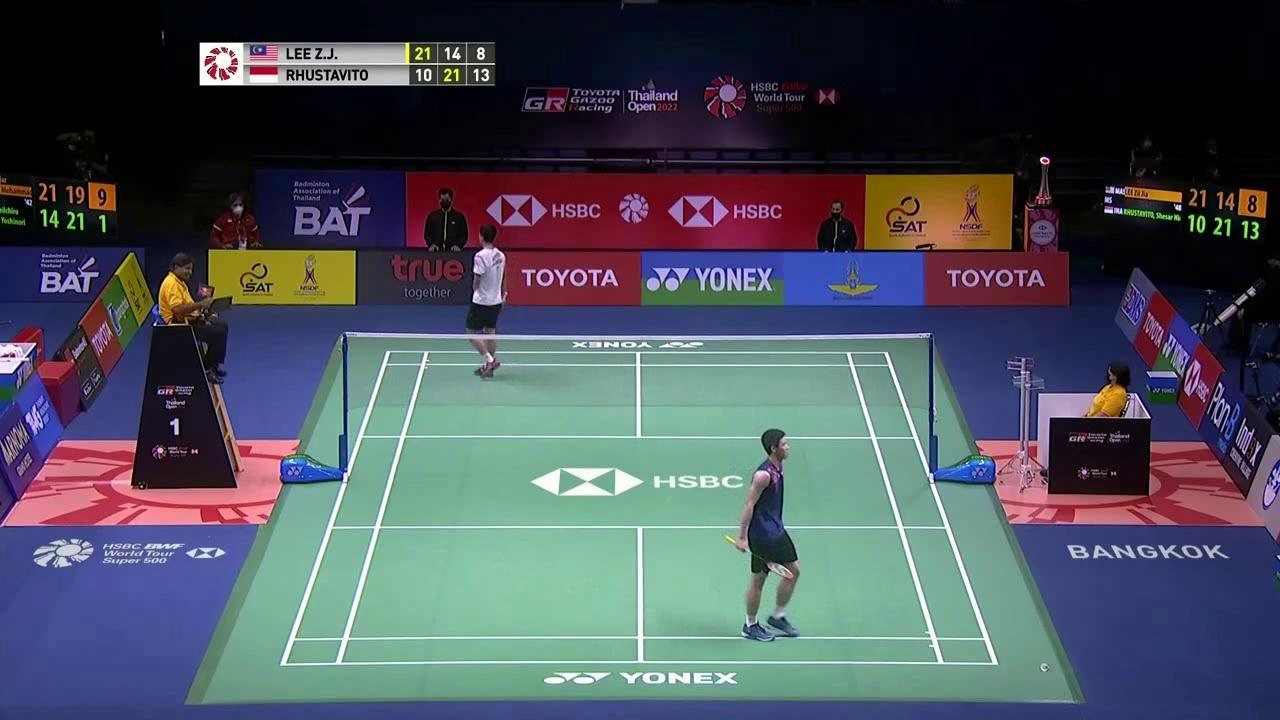racket: (723, 534, 795, 581), (500, 289, 509, 305)
shuttle: (1039, 662, 1050, 672)
